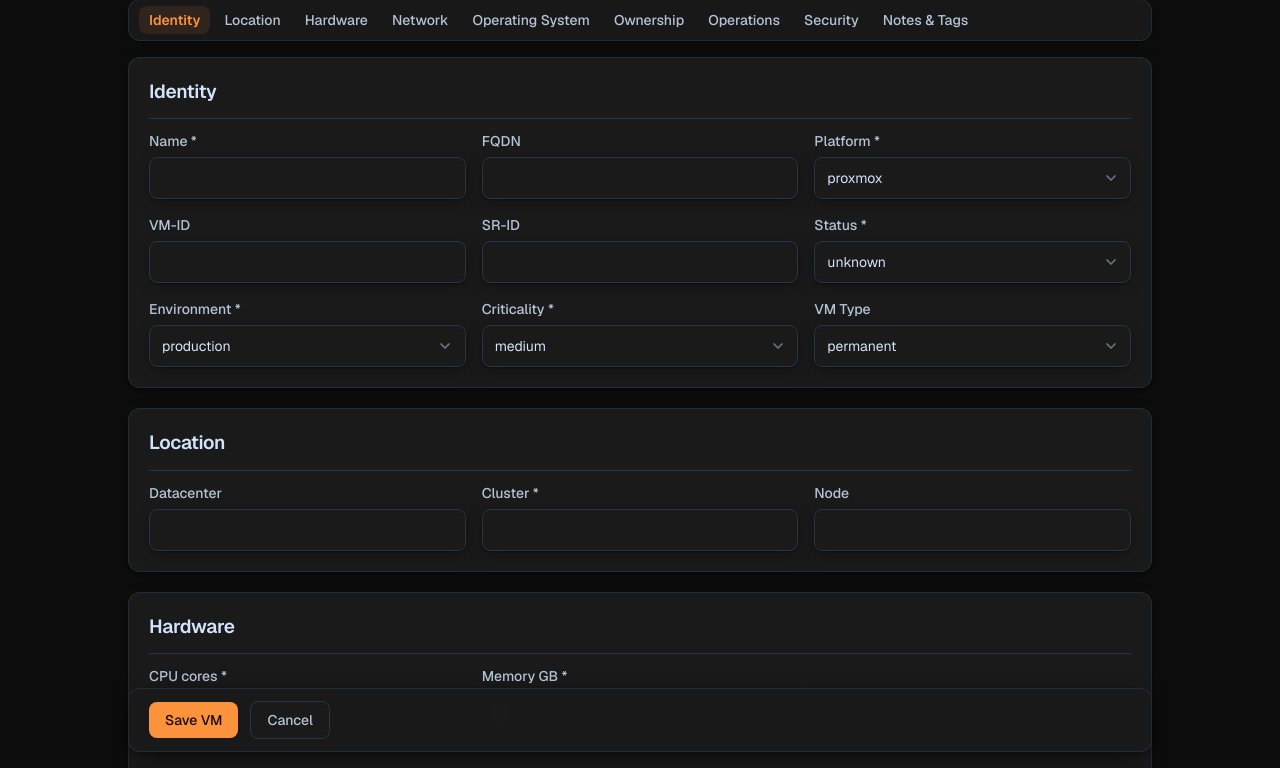
Test case: VmFormPage vm_type / decommission_date gating › clears decommission date when switching back to permanent
Select "temporary" in the dropdown labelled "VM Type" at (973, 346), box x1=814 y1=325 x2=1131 y2=367
(page scrolled)
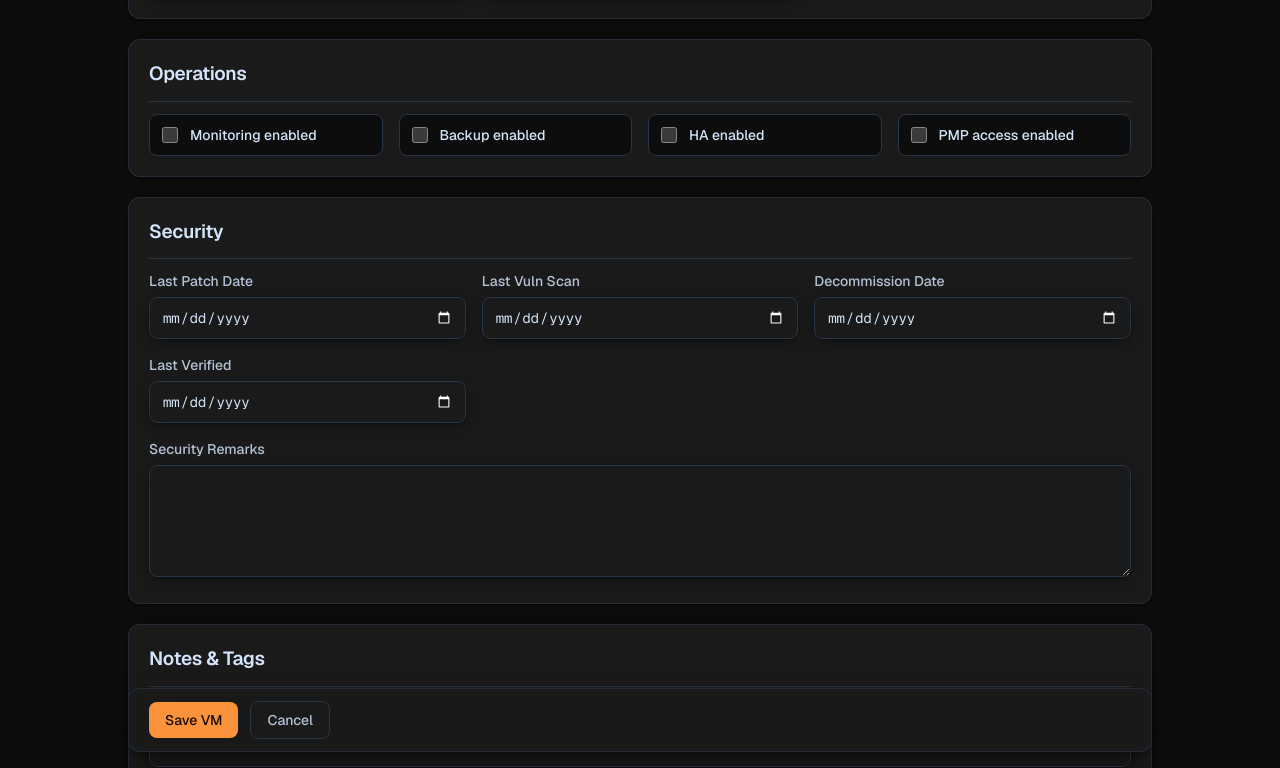
Type "2026-12-31" into the date field labelled "Decommission Date".
click(973, 318); type("2026-12-31")  # box x1=814 y1=297 x2=1131 y2=339
(page scrolled)
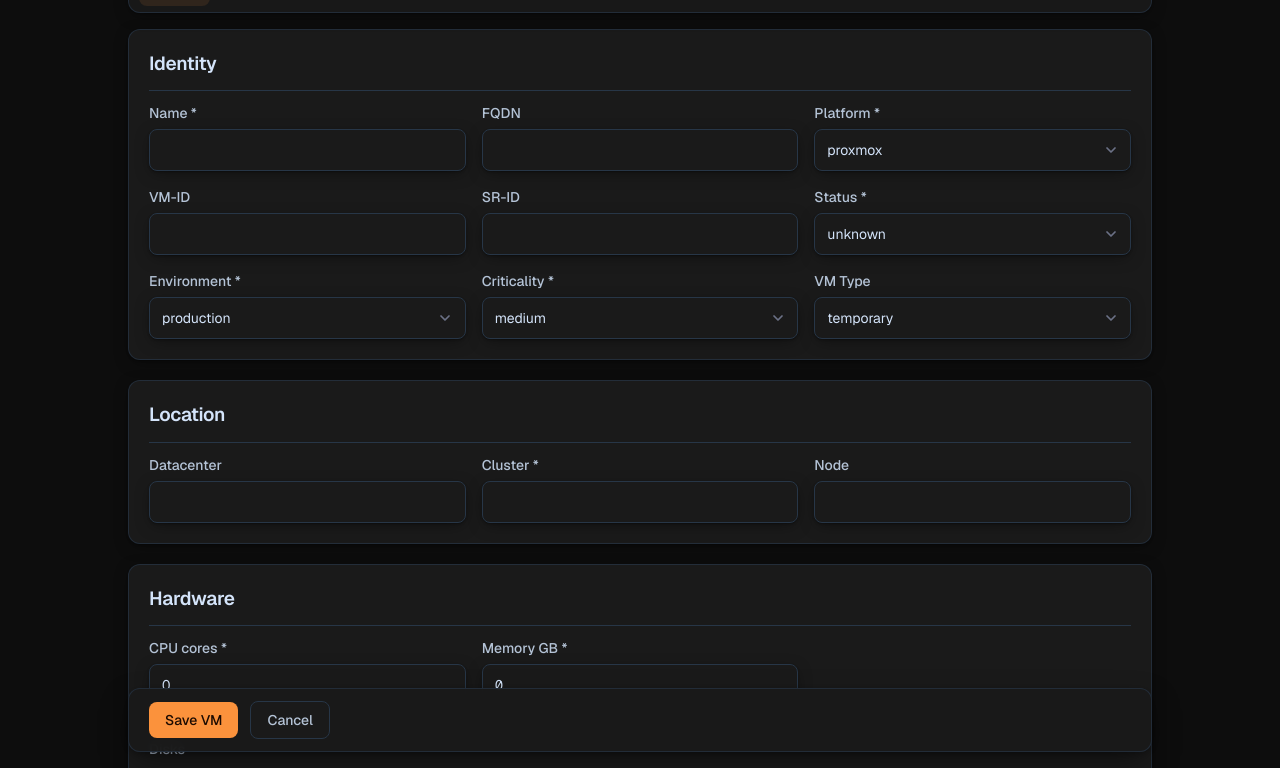
Select "permanent" in the dropdown labelled "VM Type" at (973, 318), box x1=814 y1=297 x2=1131 y2=339
(page scrolled)
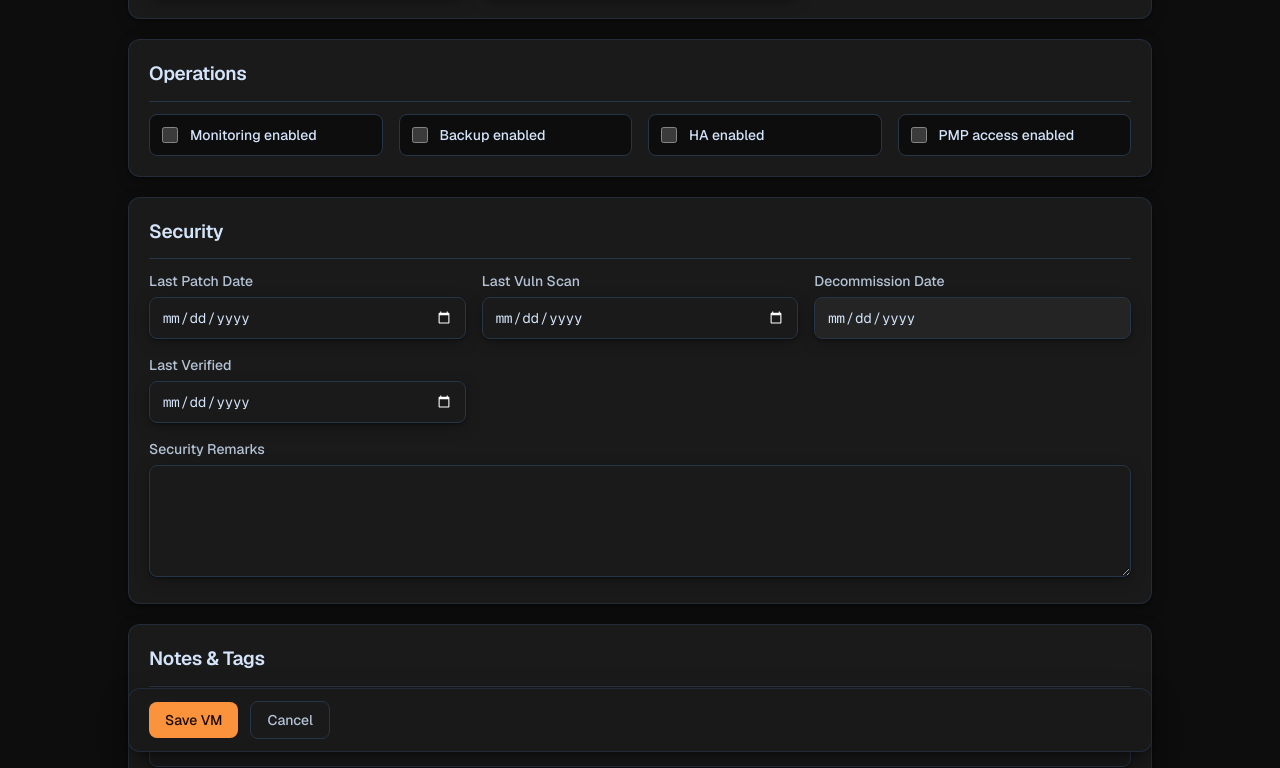
Expected: the date field labelled "Decommission Date" is empty, x1=814 y1=297 x2=1131 y2=339
Expected: the date field labelled "Decommission Date" is disabled, x1=814 y1=297 x2=1131 y2=339
